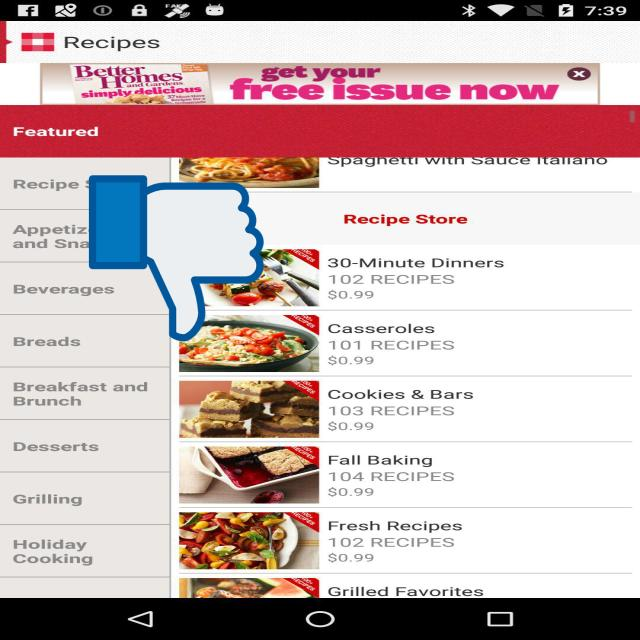obstruction: (89, 172, 264, 345)
